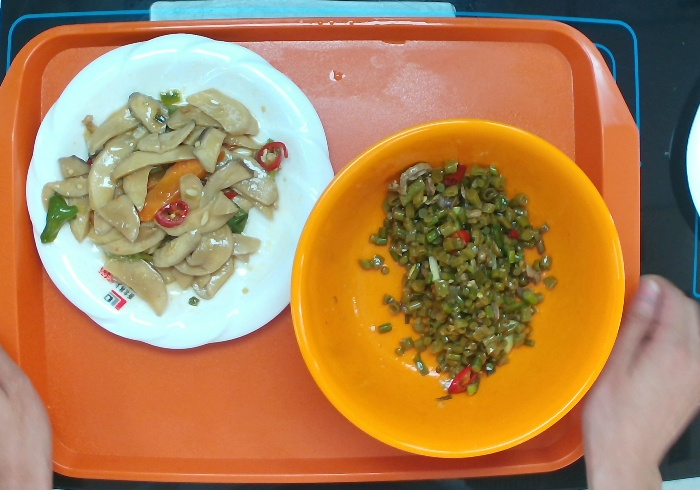ZNLD-Hua_Bian_Wan: (21, 27, 340, 357)
ZNLD-Ju_Se_Tang_Wan: (288, 111, 630, 464)
